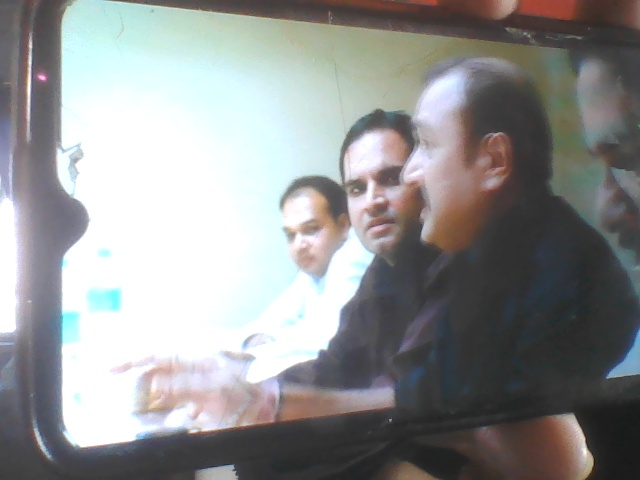fake: (343, 58, 493, 270)
